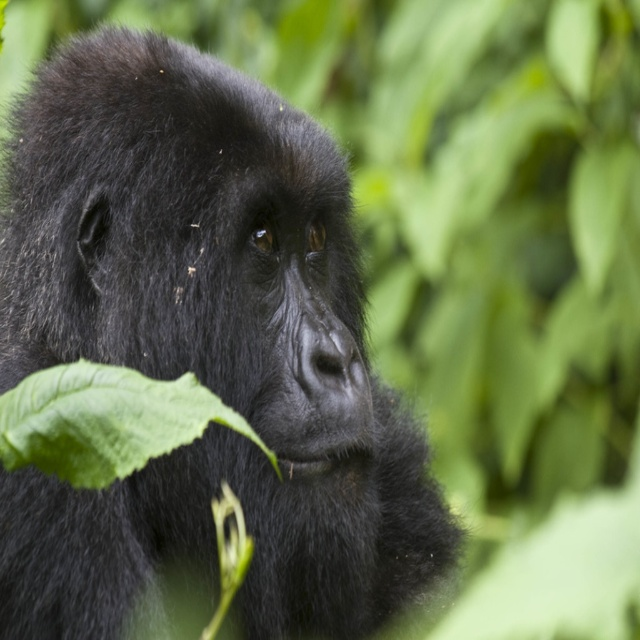Monkey: (1, 28, 463, 639)
